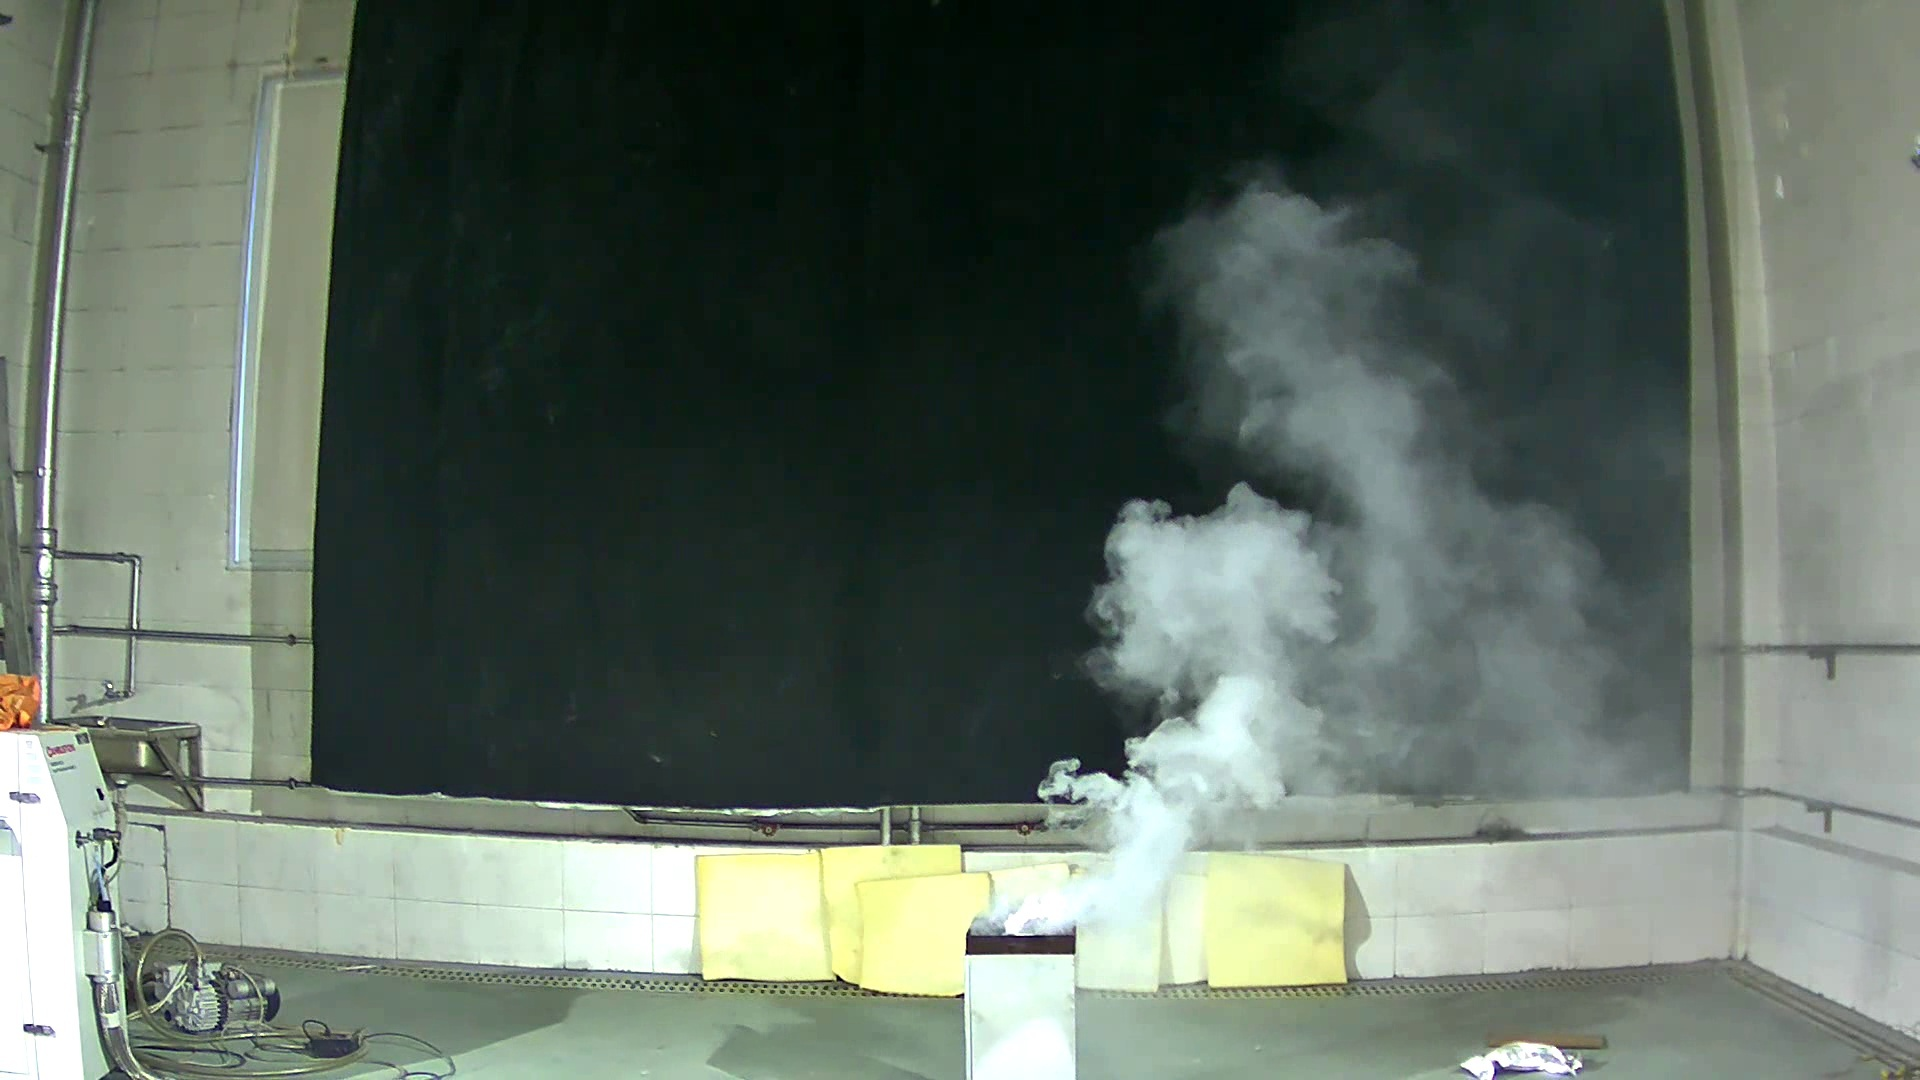smoke: (982, 170, 1552, 959)
